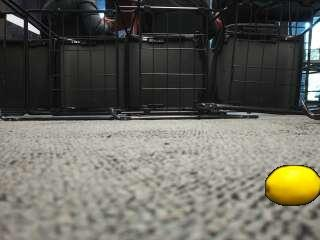lemon: (266, 165, 320, 205)
